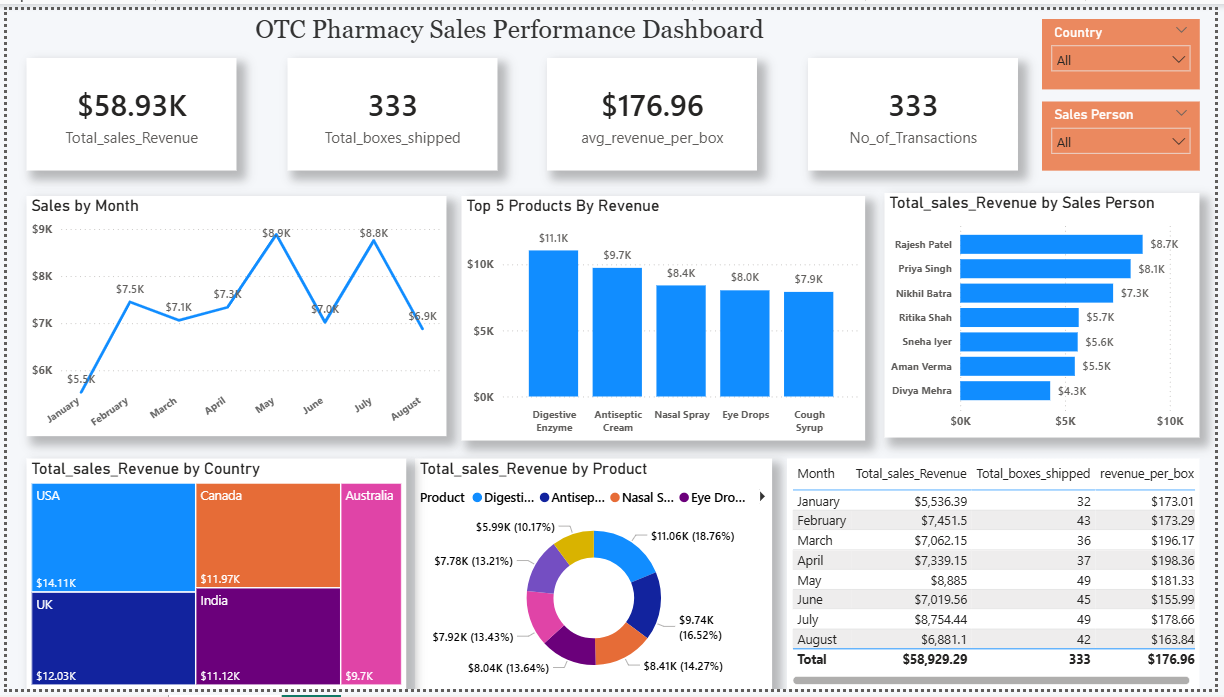

The dashboard page shown, as its layout file describes it:
{"tool":"powerbi","page":{"name":"Page 1","canvas":[1280,720],"ordinal":0},"visuals":[{"type":"card","fields":{"Values":["pharmacy_otc_sales_data.Total_sales_Revenue"]},"box":[20.7,50.9,222.7,119.3],"z":0},{"type":"card","fields":{"Values":["pharmacy_otc_sales_data.Total_boxes_shipped"]},"box":[296.9,50.9,222.7,119.3],"z":1000},{"type":"card","fields":{"Values":["pharmacy_otc_sales_data.avg_revenue_per_box"]},"box":[573.2,50.9,222.7,119.3],"z":2000},{"type":"card","fields":{"Values":["pharmacy_otc_sales_data.No_of_Transactions"]},"box":[849.4,50.9,222.7,119.3],"z":3000},{"type":"lineChart","title":"Sales by Month","fields":{"Category":["pharmacy_otc_sales_data.Date.Variation.Date Hierarchy.Month"],"Y":["pharmacy_otc_sales_data.Total_sales_Revenue"]},"box":[20.7,197.2,445.4,254.5],"z":4000},{"type":"columnChart","title":"Top 5 Products By Revenue","fields":{"Category":["pharmacy_otc_sales_data.Product"],"Y":["pharmacy_otc_sales_data.Total_sales_Revenue"]},"box":[482,197.2,427.9,259.3],"z":5000},{"type":"donutChart","fields":{"Category":["pharmacy_otc_sales_data.Product"],"Y":["pharmacy_otc_sales_data.Total_sales_Revenue"]},"box":[432.6,475.6,378.6,245],"z":6000},{"type":"barChart","fields":{"Category":["pharmacy_otc_sales_data.Sales Person"],"Y":["pharmacy_otc_sales_data.Total_sales_Revenue"]},"box":[930.5,194.1,334,259.3],"z":7000},{"type":"treemap","fields":{"Group":["pharmacy_otc_sales_data.Country"],"Values":["pharmacy_otc_sales_data.Total_sales_Revenue"]},"box":[20.7,475.6,402.4,245],"z":8000},{"type":"tableEx","fields":{"Values":["pharmacy_otc_sales_data.Date.Variation.Date Hierarchy.Month","pharmacy_otc_sales_data.Total_sales_Revenue","pharmacy_otc_sales_data.Total_boxes_shipped","pharmacy_otc_sales_data.avg_revenue_per_box"]},"box":[827.1,475.6,437.4,245],"z":9000},{"type":"slicer","fields":{"Values":["pharmacy_otc_sales_data.Country"]},"box":[1097.5,9.5,167,74.8],"z":10000},{"type":"slicer","fields":{"Values":["pharmacy_otc_sales_data.Sales Person"]},"box":[1097.5,97,167,73.2],"z":11000},{"type":"textbox","box":[135.2,0,795.3,47.7],"z":12000}]}

Visuals, with their boxes in screenshot pixels (x1, y1, x2, y2), scaled from the page's 1280x720 canvas onto the 1224x697 screenshot:
card - pharmacy_otc_sales_data.Total_sales_Revenue: select_region(20, 49, 233, 165)
card - pharmacy_otc_sales_data.Total_boxes_shipped: select_region(284, 49, 497, 165)
card - pharmacy_otc_sales_data.avg_revenue_per_box: select_region(548, 49, 761, 165)
card - pharmacy_otc_sales_data.No_of_Transactions: select_region(812, 49, 1025, 165)
"Sales by Month" lineChart: select_region(20, 191, 446, 437)
"Top 5 Products By Revenue" columnChart: select_region(461, 191, 870, 442)
donutChart - pharmacy_otc_sales_data.Product x pharmacy_otc_sales_data.Total_sales_Revenue: select_region(414, 460, 776, 696)
barChart - pharmacy_otc_sales_data.Sales Person x pharmacy_otc_sales_data.Total_sales_Revenue: select_region(890, 188, 1209, 439)
treemap - pharmacy_otc_sales_data.Country x pharmacy_otc_sales_data.Total_sales_Revenue: select_region(20, 460, 405, 696)
tableEx - pharmacy_otc_sales_data.Date.Variation.Date Hierarchy.Month x pharmacy_otc_sales_data.Total_sales_Revenue: select_region(791, 460, 1209, 696)
slicer - pharmacy_otc_sales_data.Country: select_region(1049, 9, 1209, 82)
slicer - pharmacy_otc_sales_data.Sales Person: select_region(1049, 94, 1209, 165)
textbox: select_region(129, 0, 890, 46)
